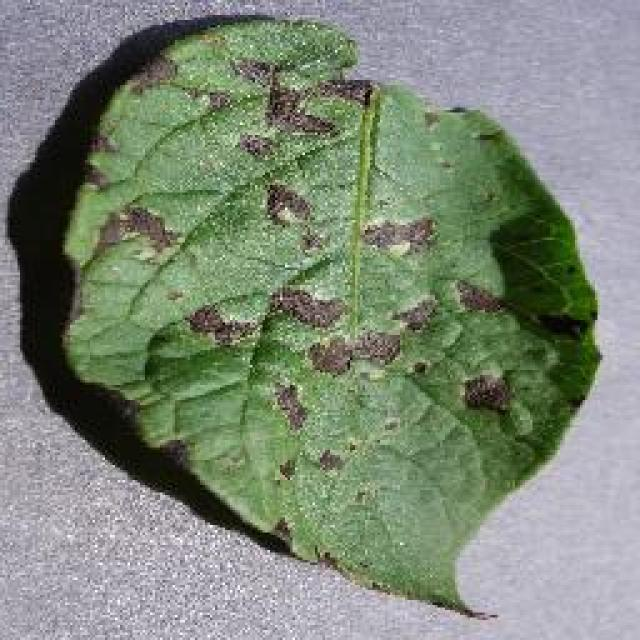Potato___Early_blight: (58, 16, 610, 623)
